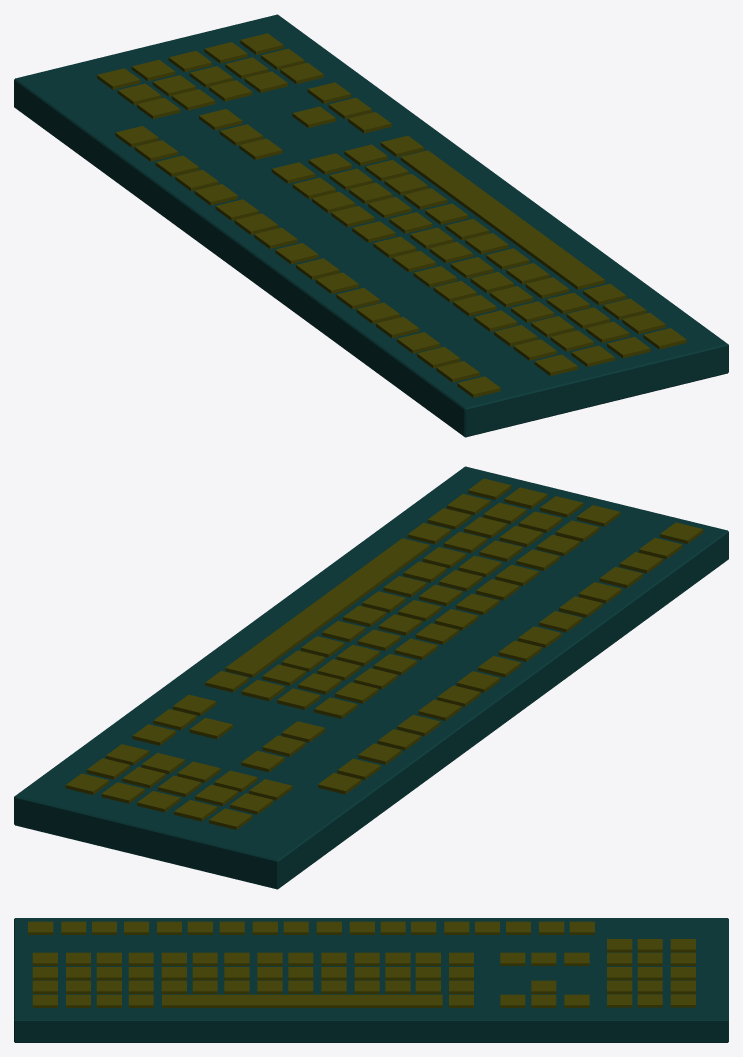
Rendered from KBoard.fbx.
The picture shows the model from 3 angles, top to bottom: view 1: azimuth 30°, elevation 25°; view 2: azimuth 150°, elevation 25°; view 3: azimuth 270°, elevation 25°; orthographic projection. The views are drawn at different scales.
Visible parts, largest first — view 1: pCube4, pCube95; view 2: pCube4, pCube95; view 3: pCube4, pCube95, pCube29, pCube31, pCube32, pCube33, pCube47, pCube49, pCube50, pCube51, pCube65, pCube67 (+77 smaller).
Boxes of the visible parts, x1,y1,x2,y2 form: pCube4: (14, 14, 728, 437); pCube95: (400, 150, 605, 289); pCube4: (14, 466, 728, 889); pCube95: (225, 538, 429, 677); pCube4: (14, 918, 728, 1042); pCube95: (162, 994, 442, 1007); pCube29: (321, 952, 346, 965); pCube31: (385, 952, 410, 965); pCube32: (224, 952, 249, 965); pCube33: (257, 952, 282, 965); pCube47: (321, 967, 346, 980); pCube49: (385, 967, 410, 980); pCube50: (224, 967, 249, 980); pCube51: (257, 967, 282, 980); pCube65: (321, 980, 346, 993); pCube67: (385, 980, 410, 993).
Bounding box in the file's own units: 0.3388 × 0.0403 × 1.
